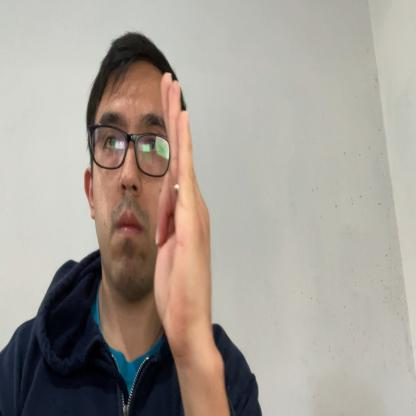F: (154, 72, 213, 332)
